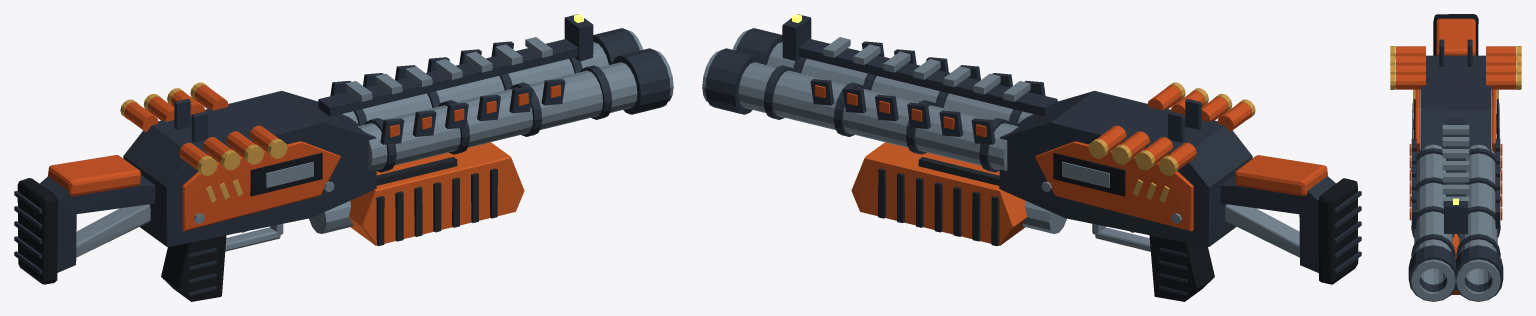
3 views of the same model, side by side, from view 1: azimuth 30°, elevation 25°; view 2: azimuth 150°, elevation 25°; view 3: azimuth 270°, elevation 25° (orthographic). The views are drawn at different scales.
Visible parts, largest first — view 1: Chassis, Steel, Armor, Pump, Rubber, PumpRibs, Brass; view 2: Chassis, Steel, Armor, Pump, Rubber, PumpRibs, Brass; view 3: Chassis, Steel, Armor, Rubber, Brass, Pump.
Part boxes in pixels (<box>): Chassis: <box>14,14,670,295</box>; Steel: <box>76,30,673,257</box>; Armor: <box>48,85,560,231</box>; Pump: <box>349,142,524,245</box>; Rubber: <box>17,152,322,301</box>; PumpRibs: <box>376,157,497,246</box>; Brass: <box>120,82,287,232</box>; Chassis: <box>705,14,1361,295</box>; Steel: <box>702,30,1299,257</box>; Armor: <box>815,85,1327,231</box>; Pump: <box>851,142,1026,245</box>; Rubber: <box>1053,153,1358,301</box>; PumpRibs: <box>878,157,999,246</box>; Brass: <box>1088,82,1255,232</box>; Chassis: <box>1408,39,1503,301</box>; Steel: <box>1411,103,1500,301</box>; Armor: <box>1395,18,1515,220</box>; Rubber: <box>1413,14,1498,138</box>; Brass: <box>1390,46,1521,112</box>; Pump: <box>1451,234,1460,294</box>.
Size of the model in its own units: 5.57 by 1.62 by 1.25.
